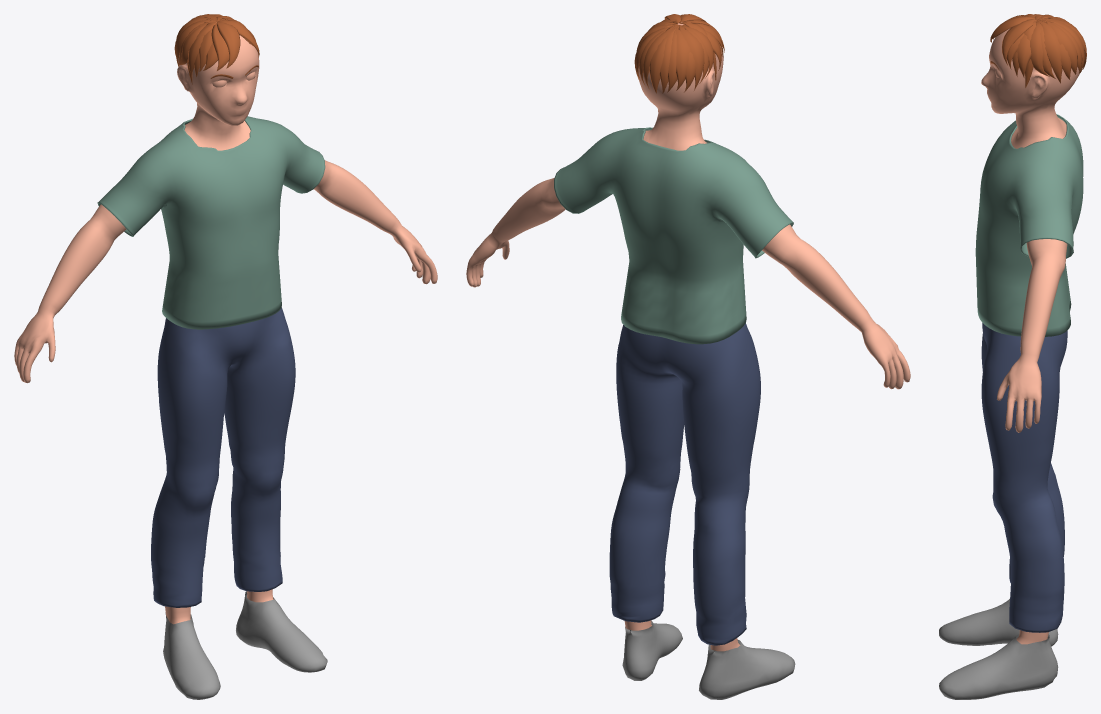
File: Billy 1.fbx
The picture shows the model from 3 angles, left to right: view 1: azimuth 30°, elevation 25°; view 2: azimuth 150°, elevation 25°; view 3: azimuth 270°, elevation 25°; orthographic projection. The views are drawn at different scales.
Visible parts, largest first — view 1: Billy_Clothes, Billy_Body; view 2: Billy_Clothes, Billy_Body; view 3: Billy_Clothes, Billy_Body.
Boxes of the visible parts, bbox=[...] form: Billy_Clothes: bbox=[97, 116, 327, 699]; Billy_Body: bbox=[14, 14, 437, 624]; Billy_Clothes: bbox=[554, 127, 795, 699]; Billy_Body: bbox=[466, 14, 910, 651]; Billy_Clothes: bbox=[939, 114, 1083, 699]; Billy_Body: bbox=[981, 14, 1086, 644].
Bounding box in the file's own units: 1.14 × 1.68 × 0.3464.
